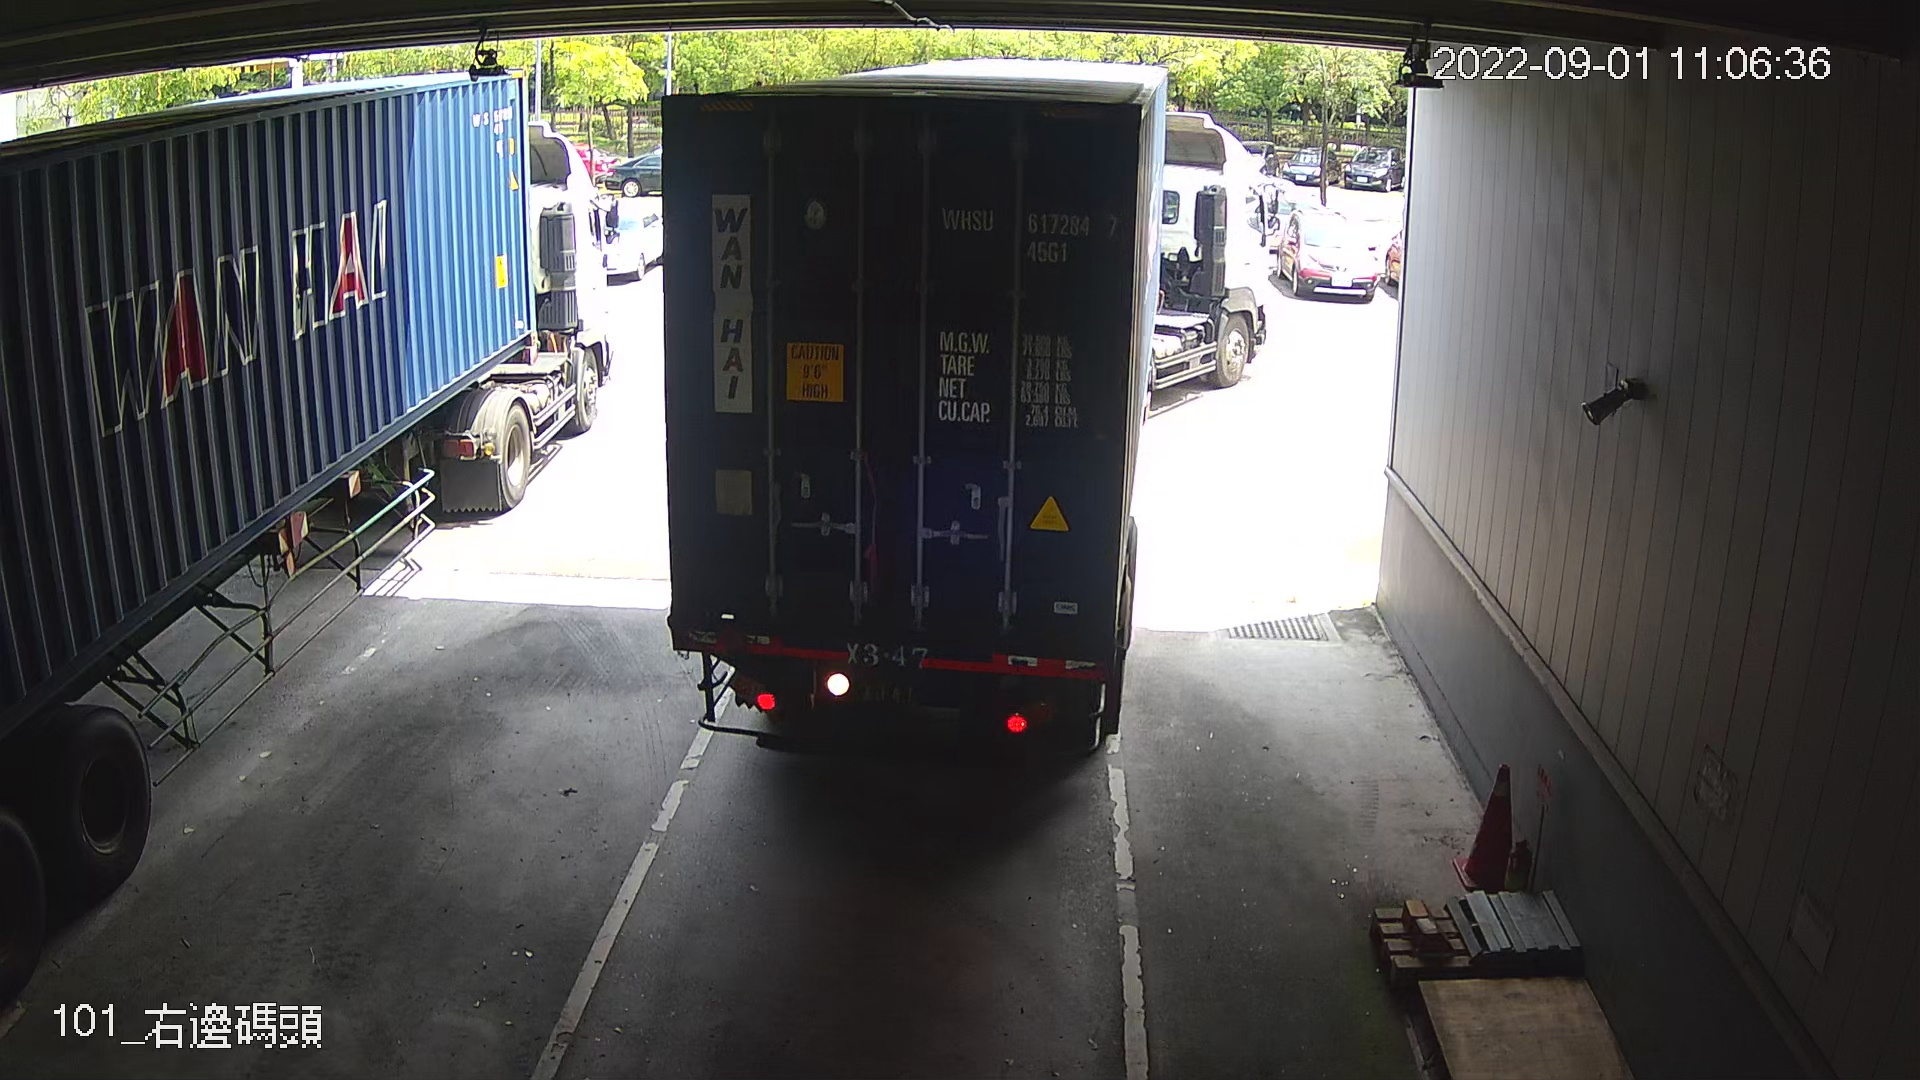container: (934, 199, 1125, 272)
